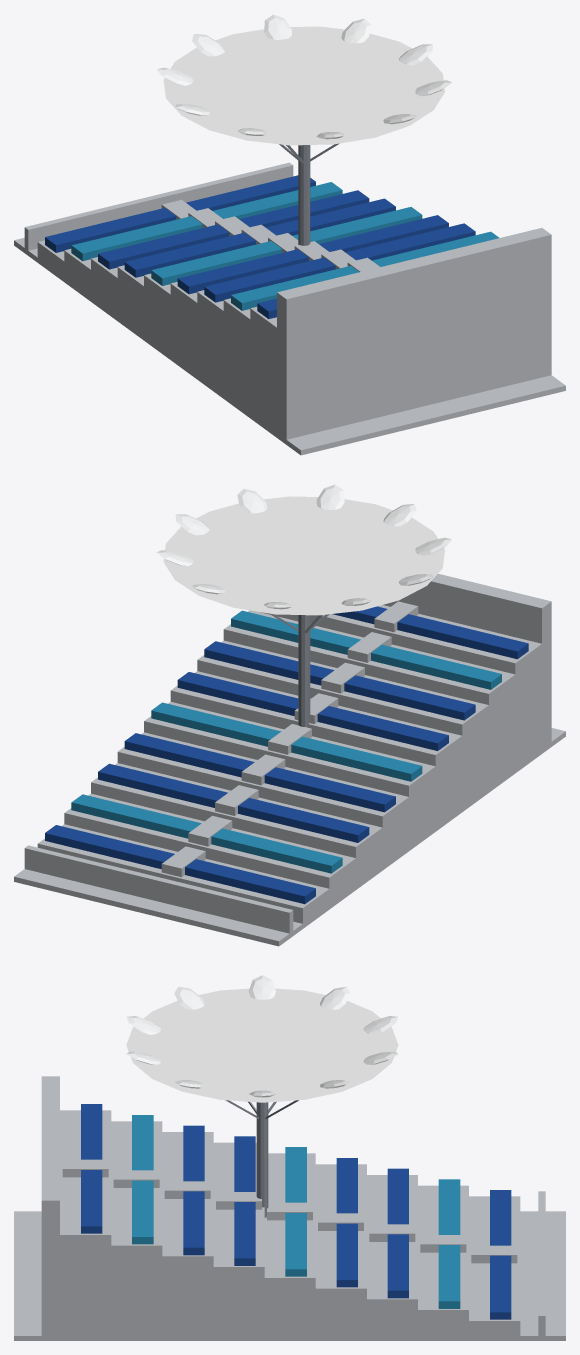
File: grada-sombrillas.glb
The picture shows the model from 3 angles, top to bottom: view 1: azimuth 30°, elevation 25°; view 2: azimuth 150°, elevation 25°; view 3: azimuth 270°, elevation 25°; orthographic projection. The views are drawn at different scales.
Parts seen in each view (by area): view 1: grada-sombrillas; view 2: grada-sombrillas; view 3: grada-sombrillas.
Part boxes in pixels (x1=…): grada-sombrillas: x1=14, y1=14, x2=565, y2=455; grada-sombrillas: x1=14, y1=484, x2=565, y2=946; grada-sombrillas: x1=14, y1=975, x2=565, y2=1340.
Bounding box in the file's own units: 16 × 14.58 × 30.
